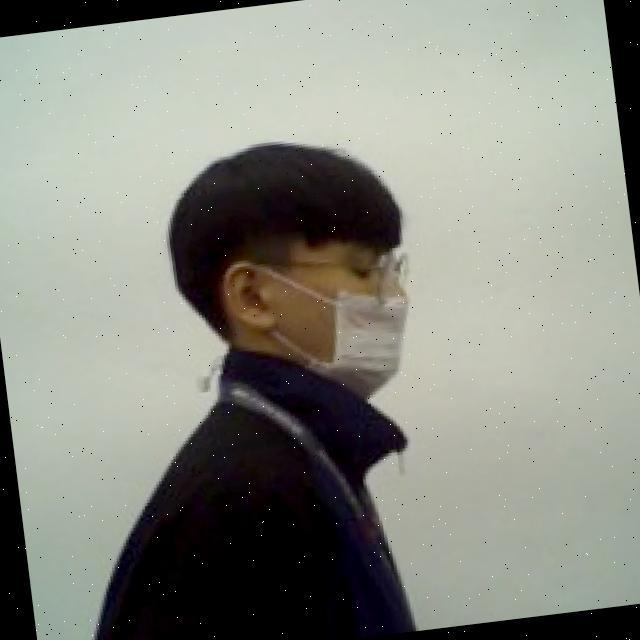mask: (212, 238, 430, 418)
no_gloves: (147, 118, 417, 315)
